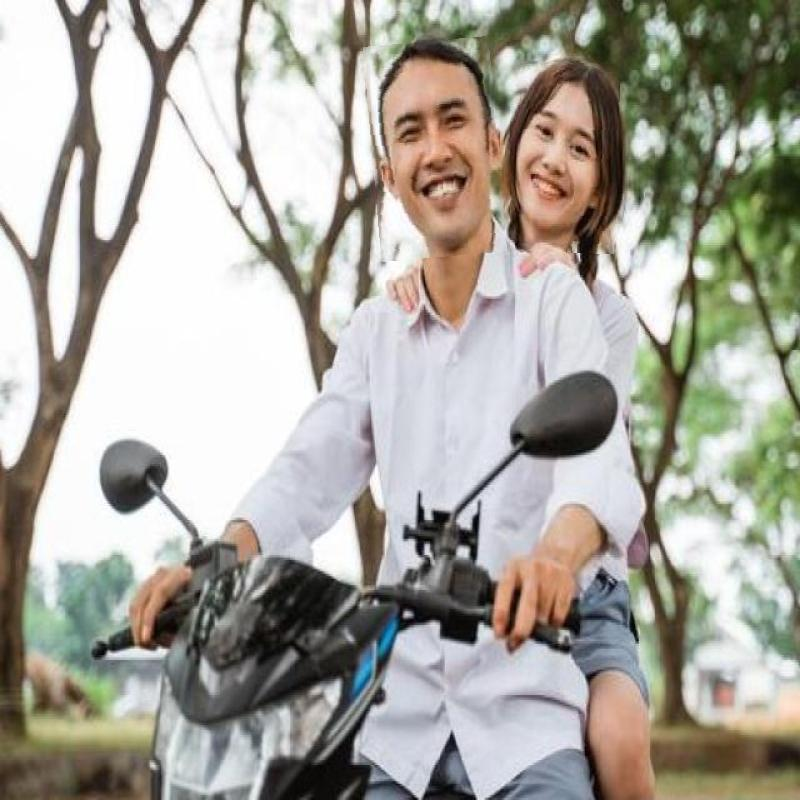nohelmet: (368, 38, 502, 260), (516, 62, 618, 253)
